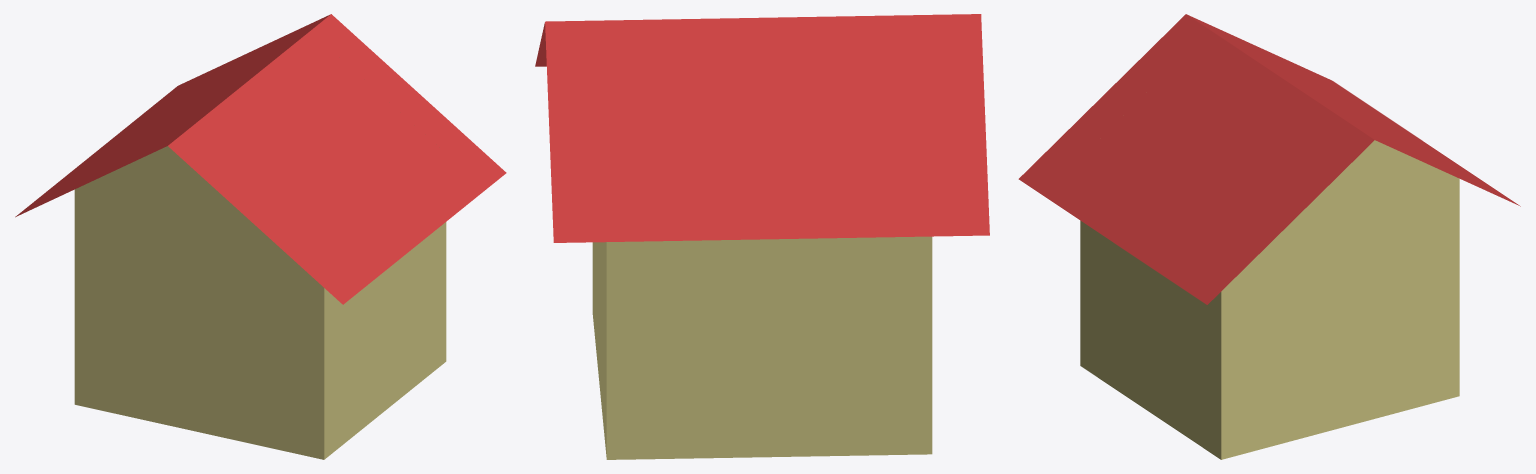
The picture shows the model from 3 angles, left to right: view 1: azimuth 30°, elevation 25°; view 2: azimuth 150°, elevation 25°; view 3: azimuth 270°, elevation 25°; orthographic projection. The views are drawn at different scales.
Bounding box in the file's own units: 11.11 × 11.24 × 7.42.
